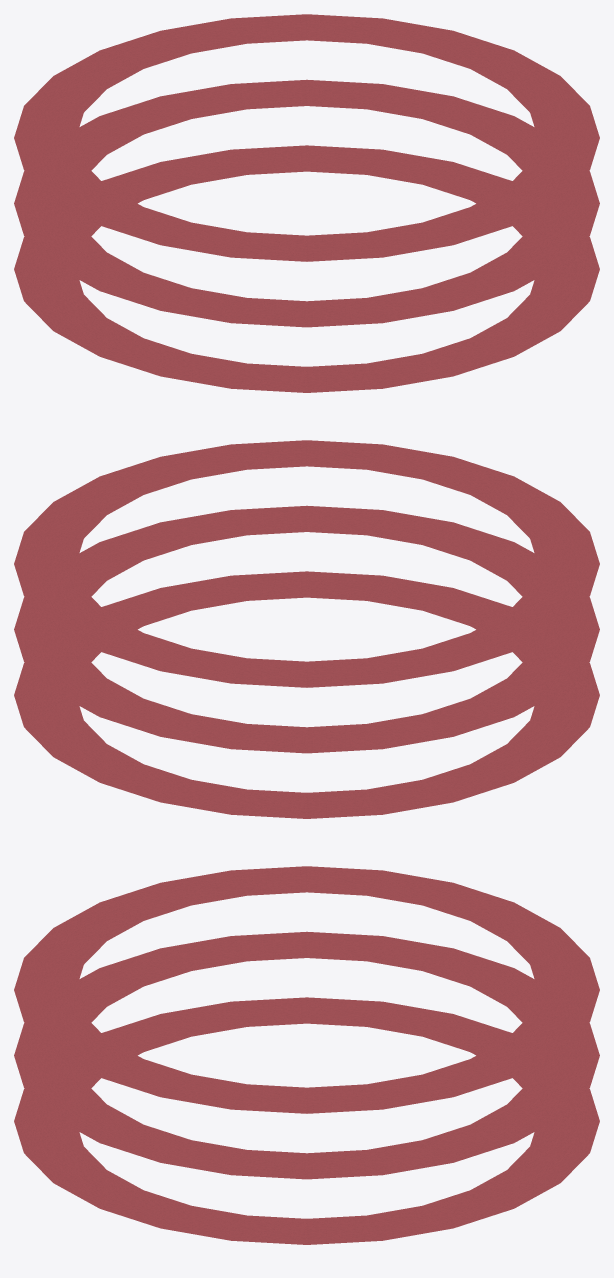
Rendered from reference_wrist_sweatband.gltf.
The picture shows the model from 3 angles, top to bottom: view 1: azimuth 30°, elevation 25°; view 2: azimuth 150°, elevation 25°; view 3: azimuth 270°, elevation 25°; orthographic projection.
Visible parts, largest first — view 1: Wrist Sweatband; view 2: Wrist Sweatband; view 3: Wrist Sweatband.
Part boxes in pixels (<box>): Wrist Sweatband: <box>14,14,599,392</box>; Wrist Sweatband: <box>14,440,599,818</box>; Wrist Sweatband: <box>14,866,599,1244</box>.
Bounding box in the file's own units: 0.17 × 0.048 × 0.17.
Materials: 1 (1 with a texture image).
